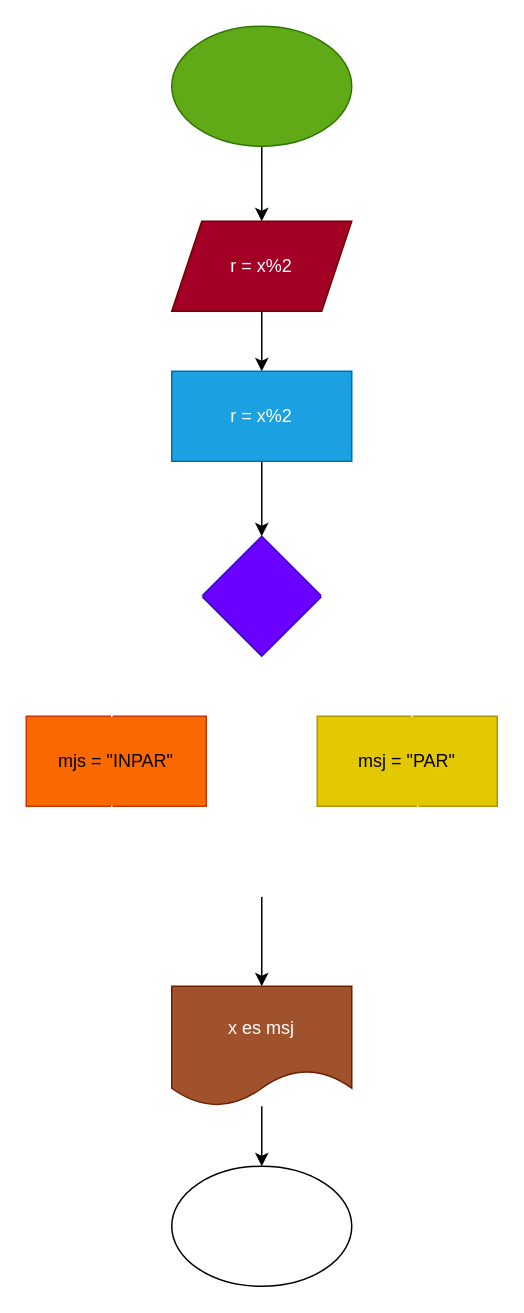
Image size: 524x1313. Some labels were removed from this diagram. The centre of each missing label's shape, as x and y in pixels:
"FIN" goes at [261,1225].
"INICIO" goes at [261,85].
"r == 2" goes at [261,595].
